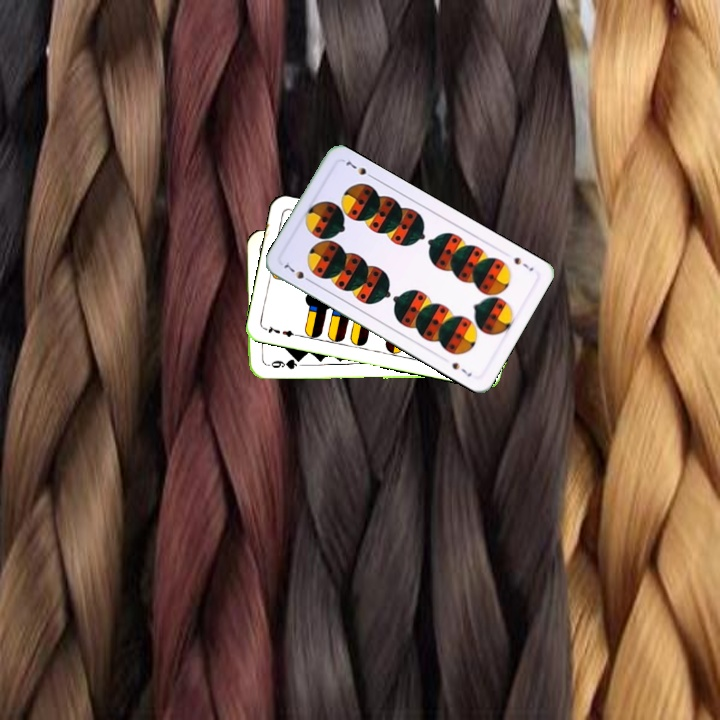E7: (260, 322, 301, 339)
G9: (261, 354, 302, 371)
S7: (280, 258, 315, 286), (509, 253, 536, 274)
